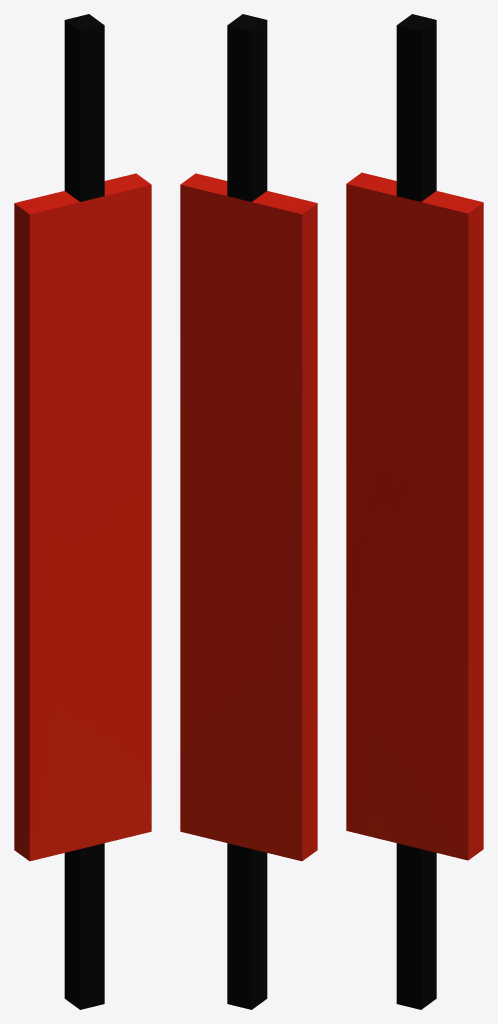
The model's file is green_candle_1.fbx.
The picture shows the model from 3 angles, left to right: view 1: azimuth 30°, elevation 25°; view 2: azimuth 150°, elevation 25°; view 3: azimuth 330°, elevation 25°; orthographic projection.
Visible parts, largest first — view 1: Cube.007; view 2: Cube.007; view 3: Cube.007.
Part boxes in pixels (<box>): Cube.007: <box>14,14,151,1009</box>; Cube.007: <box>180,14,317,1009</box>; Cube.007: <box>346,14,483,1009</box>.
Bounding box in the file's own units: 110 × 845 × 24.17.
